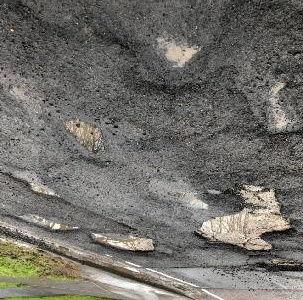pothole: (189, 182, 297, 257), (258, 79, 301, 143), (89, 230, 157, 255), (62, 117, 105, 155), (16, 212, 80, 235), (253, 260, 302, 276)
